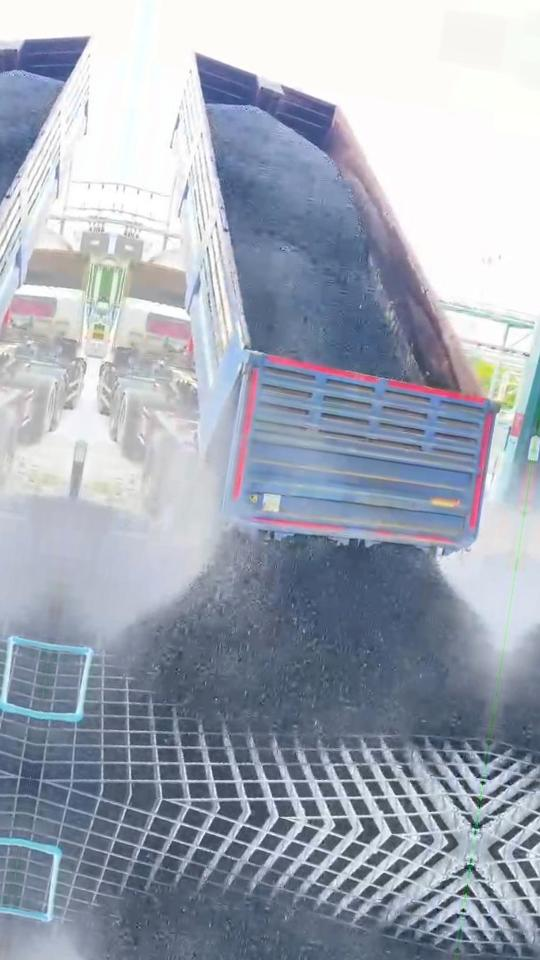gravel: (118, 536, 496, 736), (207, 106, 419, 379)
